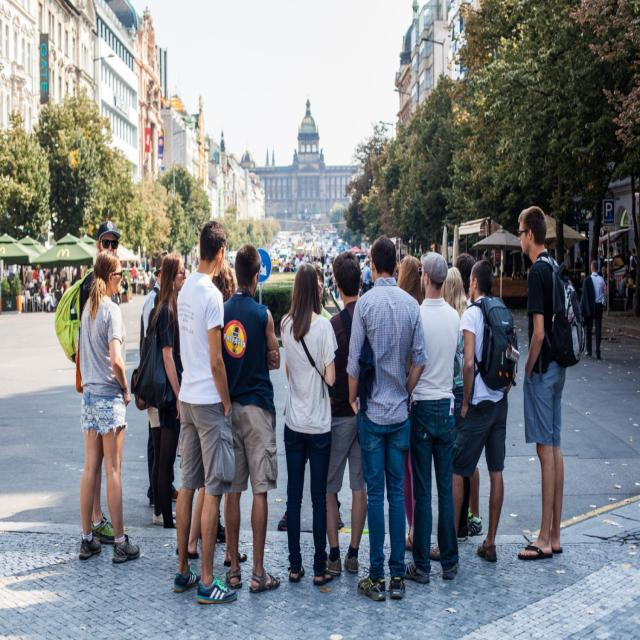body: (0, 223, 640, 312), (343, 232, 428, 603), (428, 258, 520, 564), (170, 219, 241, 605), (208, 242, 282, 594), (516, 204, 587, 562), (73, 247, 142, 565), (402, 250, 462, 586), (274, 261, 346, 533), (279, 261, 334, 588), (78, 221, 131, 546), (324, 249, 369, 577), (139, 250, 180, 510), (152, 251, 188, 530), (396, 253, 425, 553), (146, 290, 178, 527), (441, 266, 469, 422), (579, 259, 607, 361), (453, 252, 478, 308), (208, 256, 236, 305)
